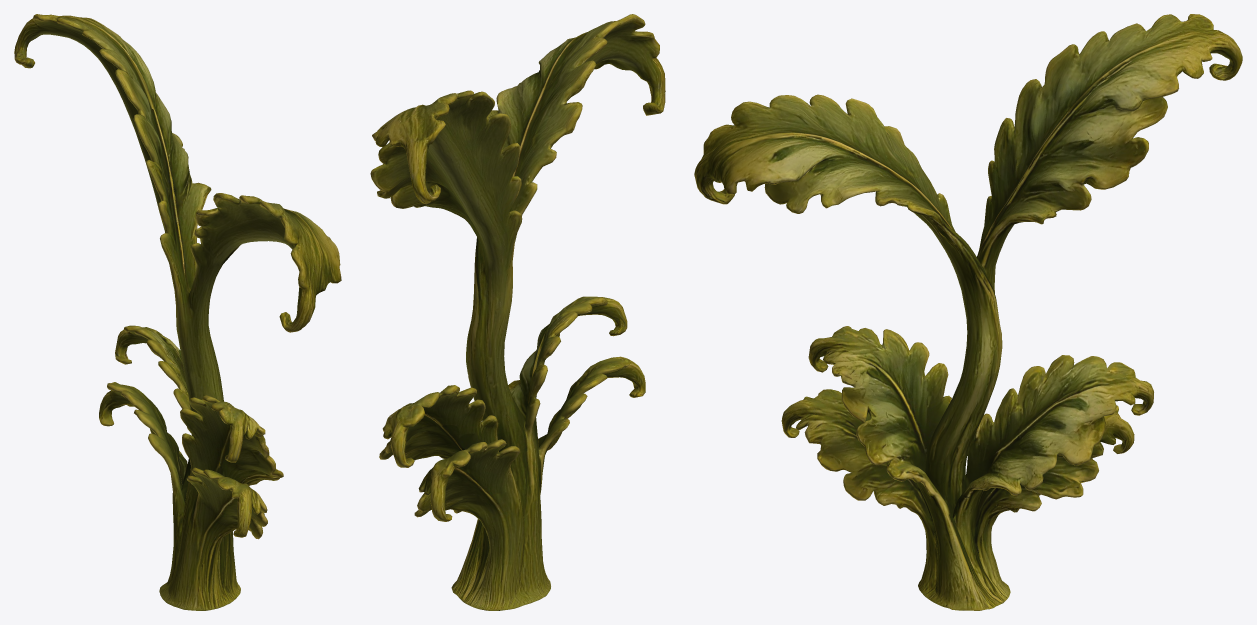
File: ornamental+plant+3d+model+1k.glb
3 views of the same model, side by side, from view 1: azimuth 30°, elevation 25°; view 2: azimuth 150°, elevation 25°; view 3: azimuth 270°, elevation 25° (orthographic). The views are drawn at different scales.
Parts seen in each view (by area): view 1: tripo_node_726f87b8-6643-4d2b-a233-d13e7a7aae6a; view 2: tripo_node_726f87b8-6643-4d2b-a233-d13e7a7aae6a; view 3: tripo_node_726f87b8-6643-4d2b-a233-d13e7a7aae6a.
Boxes of the visible parts, <box> form: tripo_node_726f87b8-6643-4d2b-a233-d13e7a7aae6a: <box>14,14,341,610</box>; tripo_node_726f87b8-6643-4d2b-a233-d13e7a7aae6a: <box>370,14,665,610</box>; tripo_node_726f87b8-6643-4d2b-a233-d13e7a7aae6a: <box>694,14,1242,610</box>.
Size of the model in its own units: 0.2502 by 1 by 0.8924.
1 material, 1 textured.
